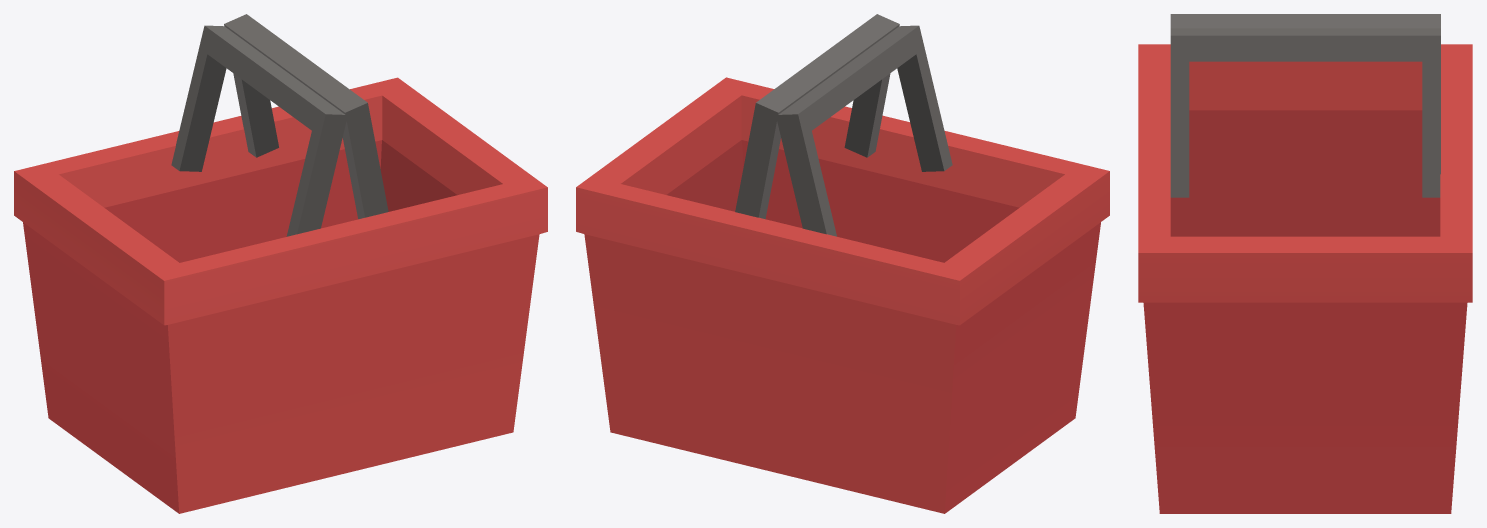
Rendered from BasketUp2.glb.
3 views of the same model, side by side, from view 1: azimuth 30°, elevation 25°; view 2: azimuth 150°, elevation 25°; view 3: azimuth 270°, elevation 25° (orthographic). The views are drawn at different scales.
Parts seen in each view (by area): view 1: SI_Prop_Basket_HandleUp_02; view 2: SI_Prop_Basket_HandleUp_02; view 3: SI_Prop_Basket_HandleUp_02.
Part boxes in pixels (<box>): SI_Prop_Basket_HandleUp_02: <box>14,14,547,513</box>; SI_Prop_Basket_HandleUp_02: <box>576,14,1109,513</box>; SI_Prop_Basket_HandleUp_02: <box>1138,14,1472,513</box>.
Size of the model in its own units: 0.0104 by 0.00936 by 0.00706.
Materials: 1 (1 with a texture image).
